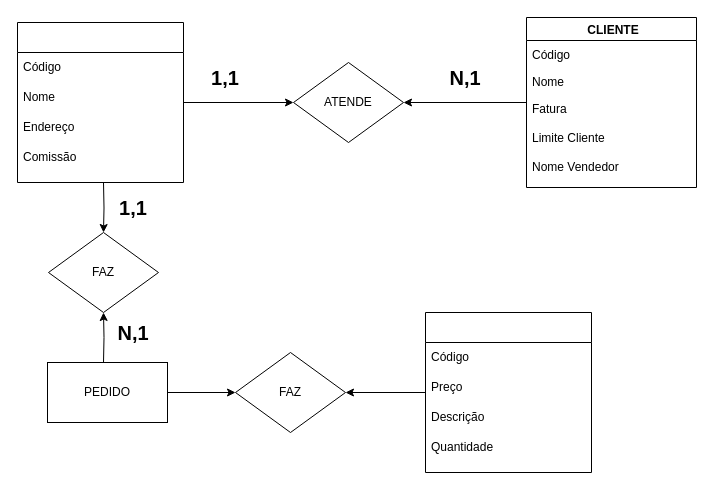
This 714x490 diagram has some shape labels left out. Each missing label, with the box of its shape:
PEÇA: (424, 312, 592, 472)
VENDEDOR: (16, 22, 184, 182)
